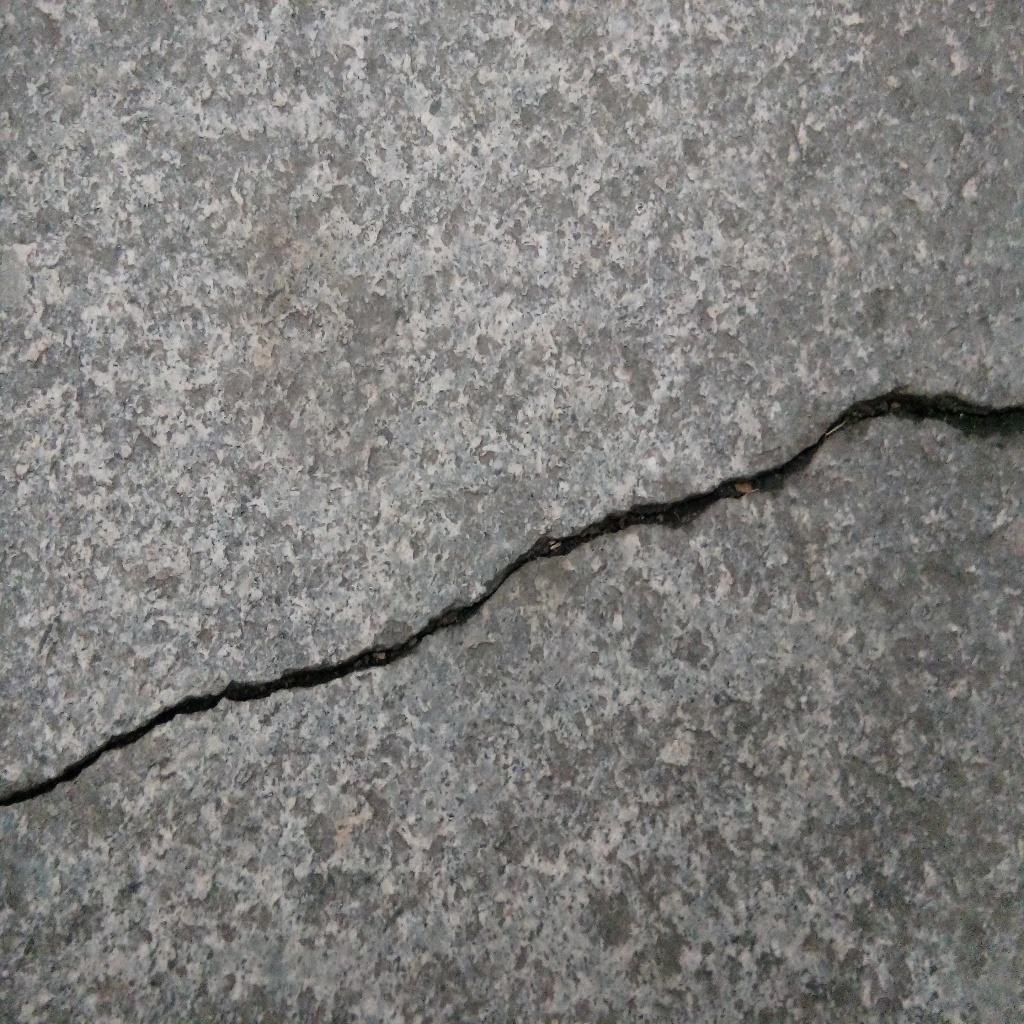Crack: (1, 384, 1024, 809)
